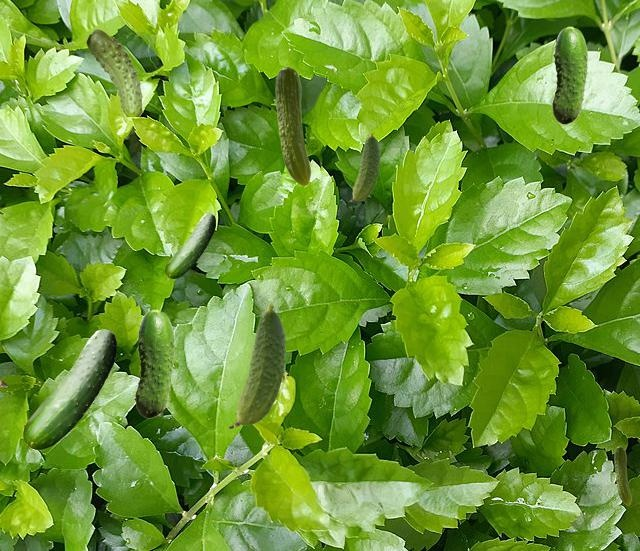cucumber: (23, 329, 115, 448), (229, 303, 285, 427), (86, 29, 142, 115), (135, 309, 174, 417), (275, 66, 310, 185), (552, 26, 587, 123), (165, 213, 214, 277), (348, 132, 379, 201), (614, 446, 630, 504)
